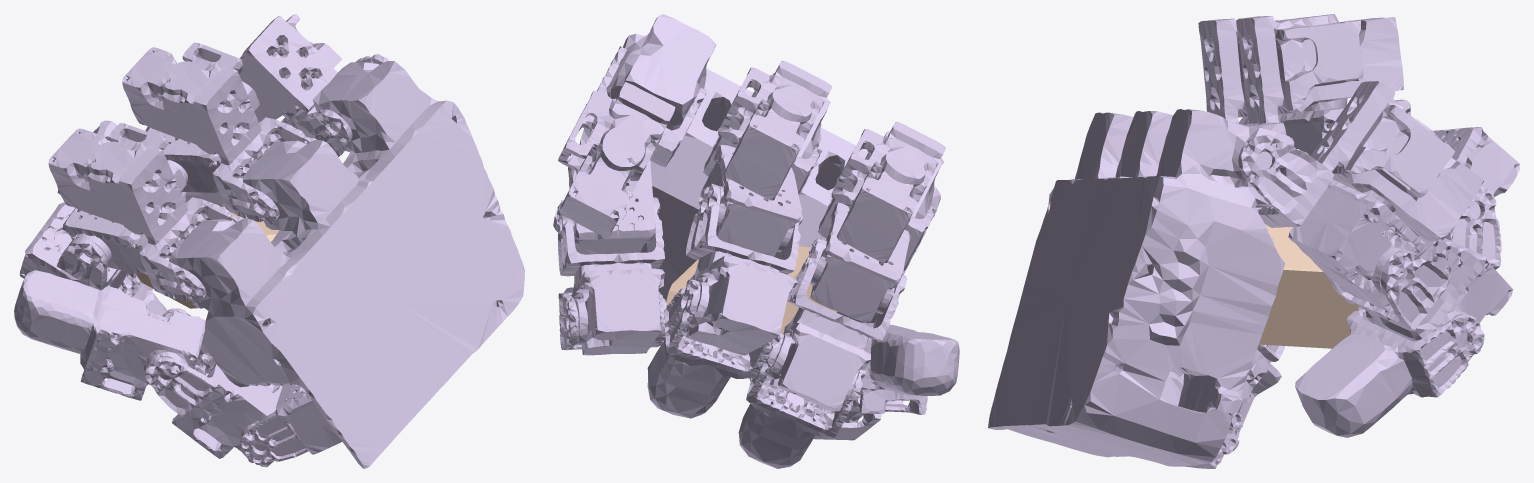
Rendered from ffd2cbd45d4343-final.glb.
3 views of the same model, side by side, from view 1: azimuth 30°, elevation 25°; view 2: azimuth 150°, elevation 25°; view 3: azimuth 270°, elevation 25° (orthographic). The views are drawn at different scales.
Visible parts, largest first — view 1: LEAP_hand; view 2: LEAP_hand, world; view 3: LEAP_hand, world.
Part boxes in pixels (x1=…): LEAP_hand: x1=14, y1=14, x2=524, y2=468; LEAP_hand: x1=553, y1=14, x2=959, y2=468; world: x1=666, y1=245, x2=837, y2=333; LEAP_hand: x1=988, y1=14, x2=1519, y2=468; world: x1=1259, y1=224, x2=1359, y2=348.
Size of the model in its own units: 0.1806 by 0.1536 by 0.1646.
